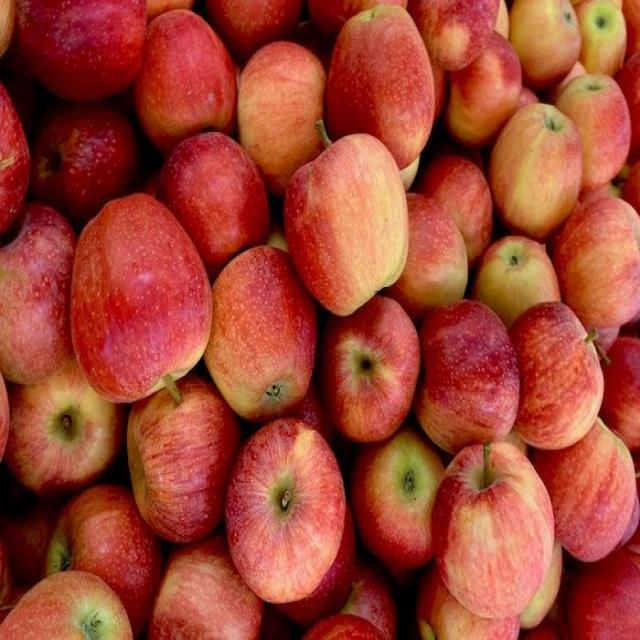Fresh Apple: (61, 189, 216, 412), (425, 433, 555, 627), (287, 133, 415, 319), (225, 411, 344, 610), (322, 0, 442, 188), (115, 374, 243, 550), (202, 242, 326, 418), (496, 286, 614, 464), (139, 119, 276, 272), (5, 334, 121, 502), (0, 180, 89, 398), (337, 412, 448, 582), (414, 295, 526, 463), (312, 288, 426, 452), (129, 0, 240, 150), (41, 473, 158, 614), (142, 514, 271, 640), (5, 0, 156, 106), (233, 31, 327, 188), (544, 178, 640, 327), (501, 90, 583, 238), (0, 556, 139, 640), (25, 113, 139, 208), (552, 427, 634, 558), (549, 70, 632, 194), (441, 35, 531, 148), (500, 0, 586, 92), (487, 231, 563, 323), (568, 7, 640, 83)
